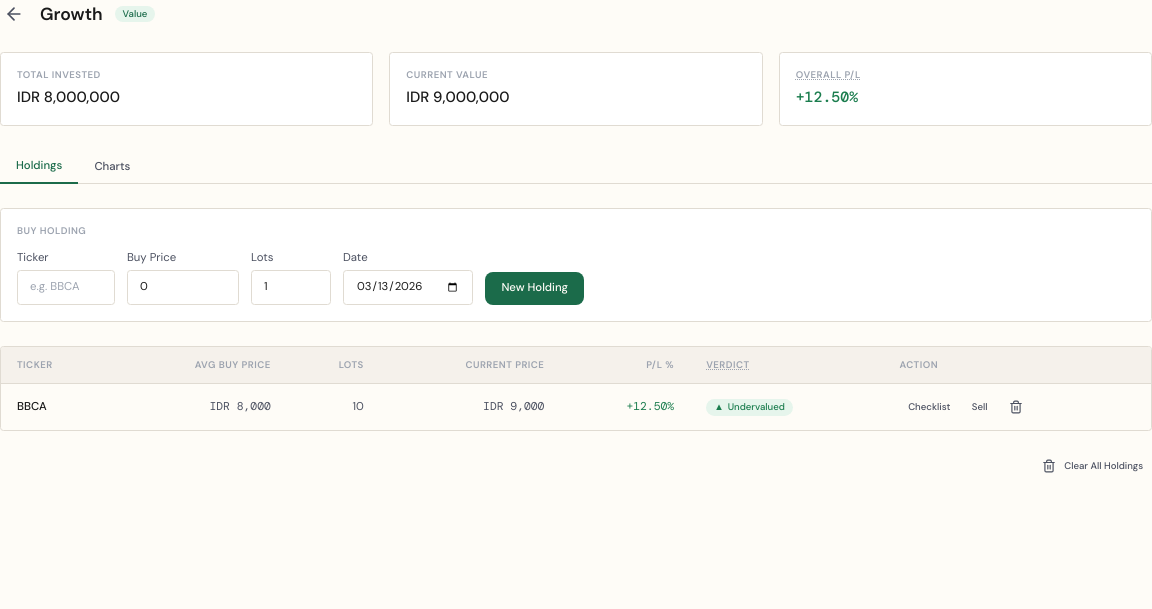
it: PortfolioDetail › switches to charts tab on click
The width and height of the screenshot is (1152, 609).
Step 1. Click the tab "charts" → (112, 167), box 78,150 -> 146,184
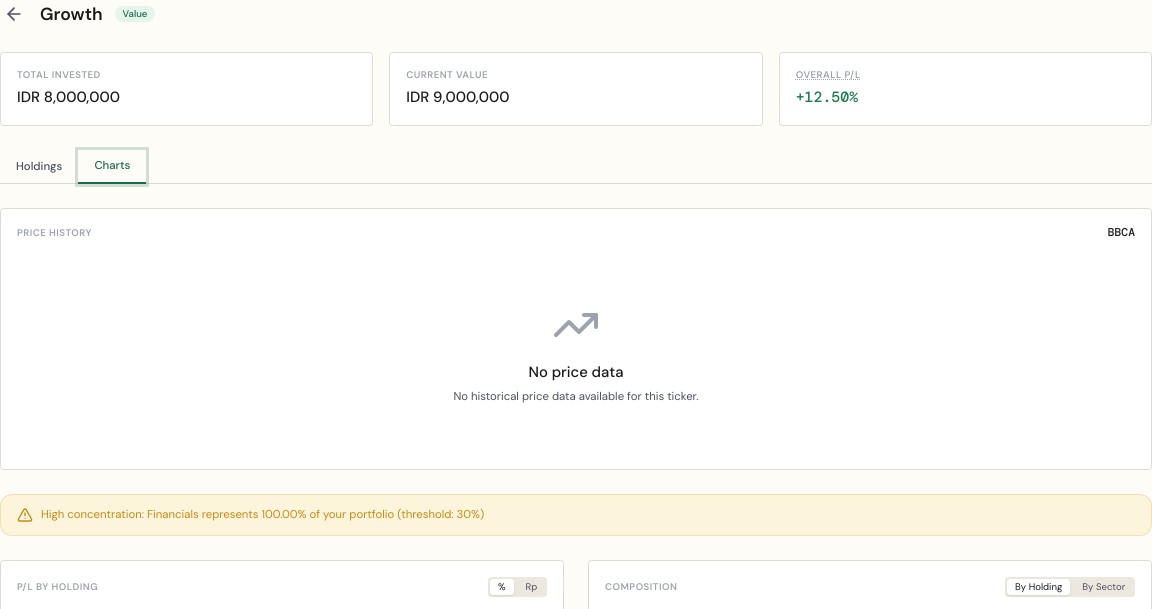
Now the heading "Buy Holding" is gone
